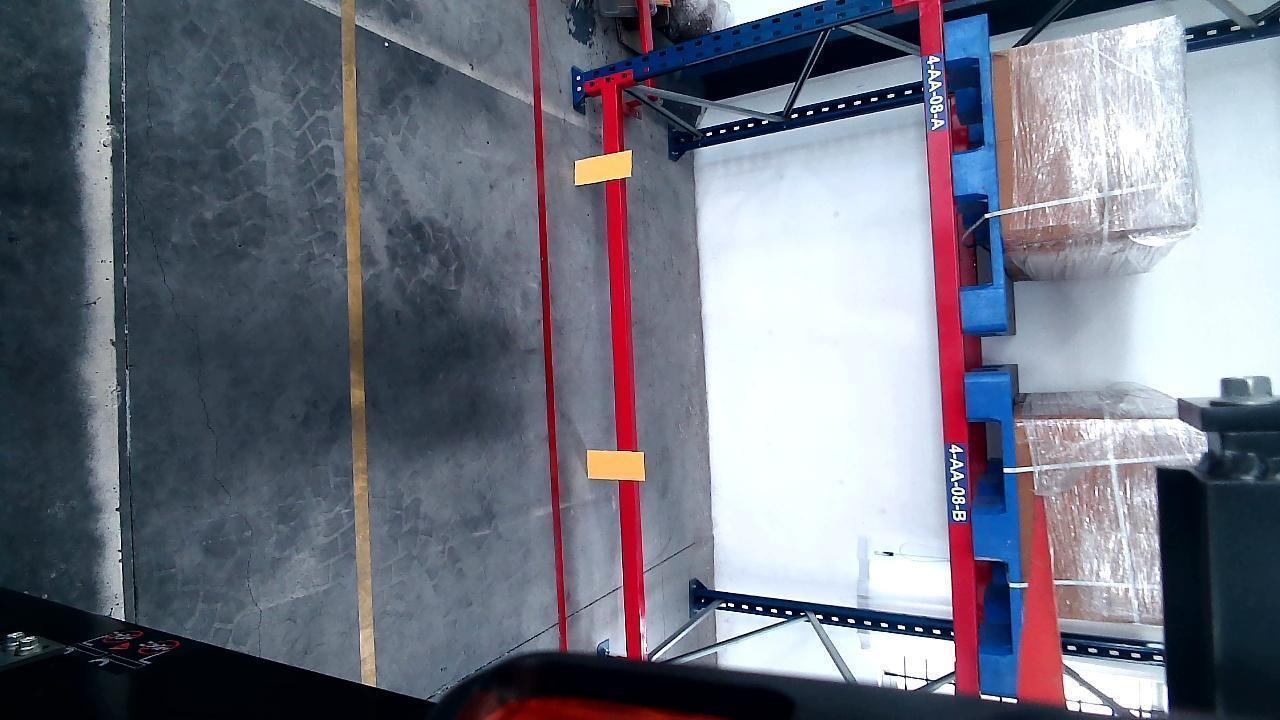red_line: (530, 6, 568, 649)
yellow_line: (341, 0, 384, 683)
